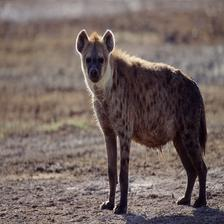hyena: (77, 27, 211, 212)
